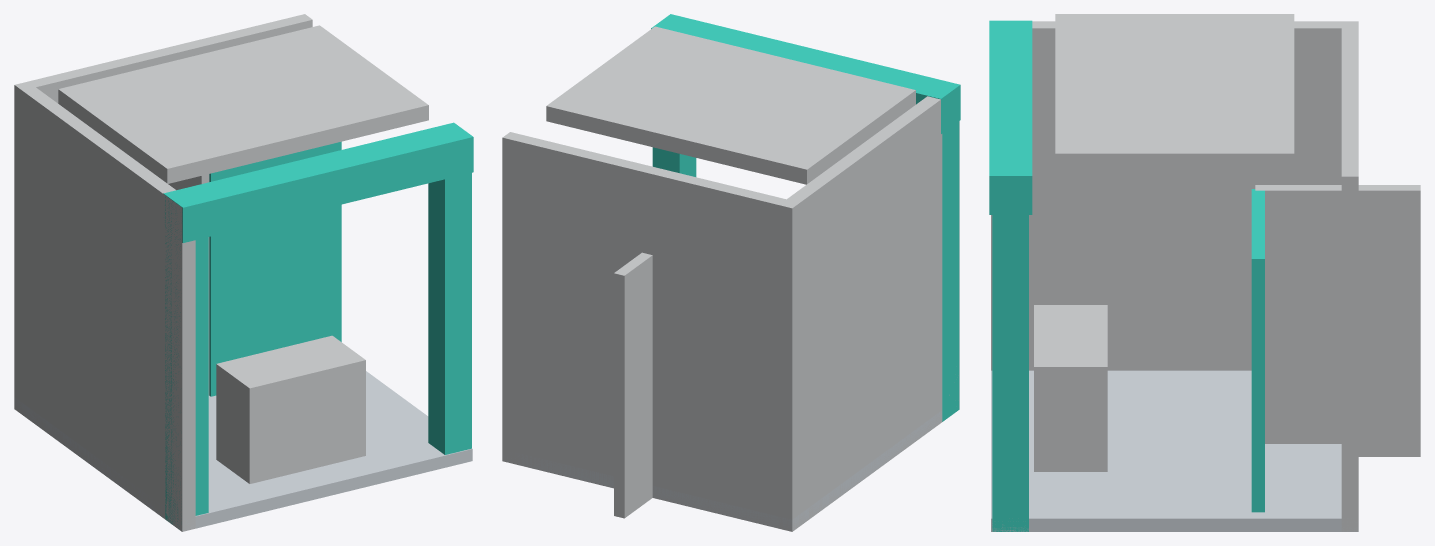
3 renders of one model, left to right at view 1: azimuth 30°, elevation 25°; view 2: azimuth 150°, elevation 25°; view 3: azimuth 270°, elevation 25°, orthographic. The views are drawn at different scales.
Visible parts, largest first — view 1: Exhibition Booth Concept; view 2: Exhibition Booth Concept; view 3: Exhibition Booth Concept.
Part boxes in pixels (x1=…): Exhibition Booth Concept: x1=14, y1=14, x2=473, y2=531; Exhibition Booth Concept: x1=502, y1=14, x2=960, y2=531; Exhibition Booth Concept: x1=989, y1=14, x2=1420, y2=531.
Bounding box in the file's own units: 3 × 3.34 × 3.52.
